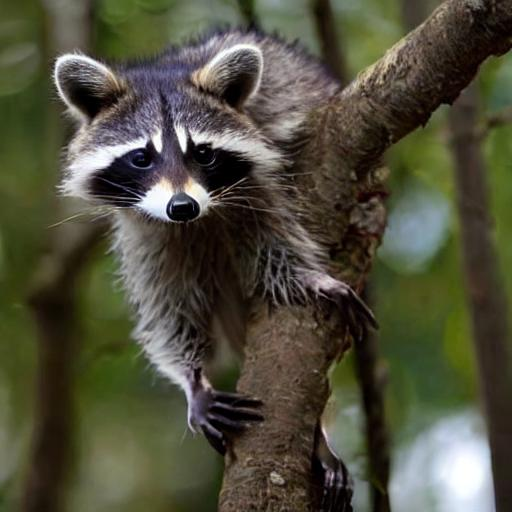raccoon: (41, 14, 371, 342)
